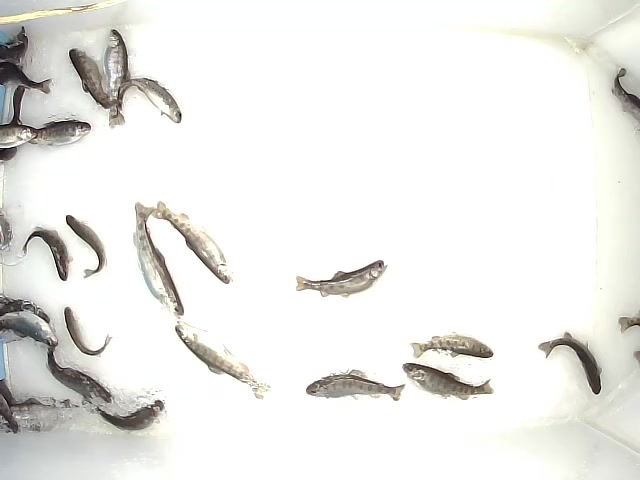fish: (173, 320, 272, 401), (148, 200, 232, 286), (131, 201, 185, 317), (537, 329, 605, 396), (45, 346, 114, 405), (295, 259, 388, 298), (401, 362, 494, 401), (306, 368, 405, 402), (117, 76, 183, 126), (102, 27, 132, 132), (21, 225, 74, 284), (65, 214, 108, 281), (68, 47, 112, 110), (91, 398, 165, 434), (408, 331, 494, 361), (64, 306, 112, 356), (27, 119, 92, 147), (1, 122, 39, 150)
